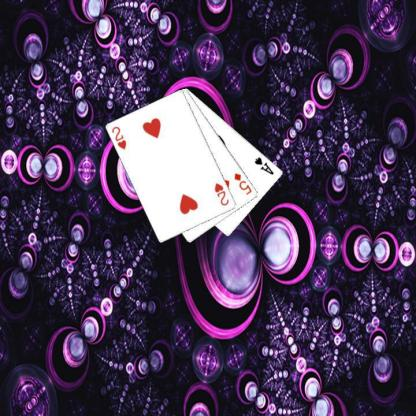2H: (109, 124, 128, 150), (212, 180, 230, 207)
5D: (232, 170, 253, 196)
AS: (252, 154, 275, 176)
